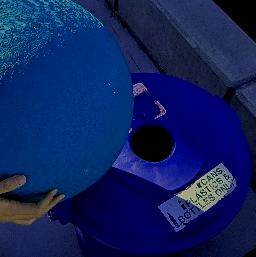algae: (0, 0, 124, 202)
